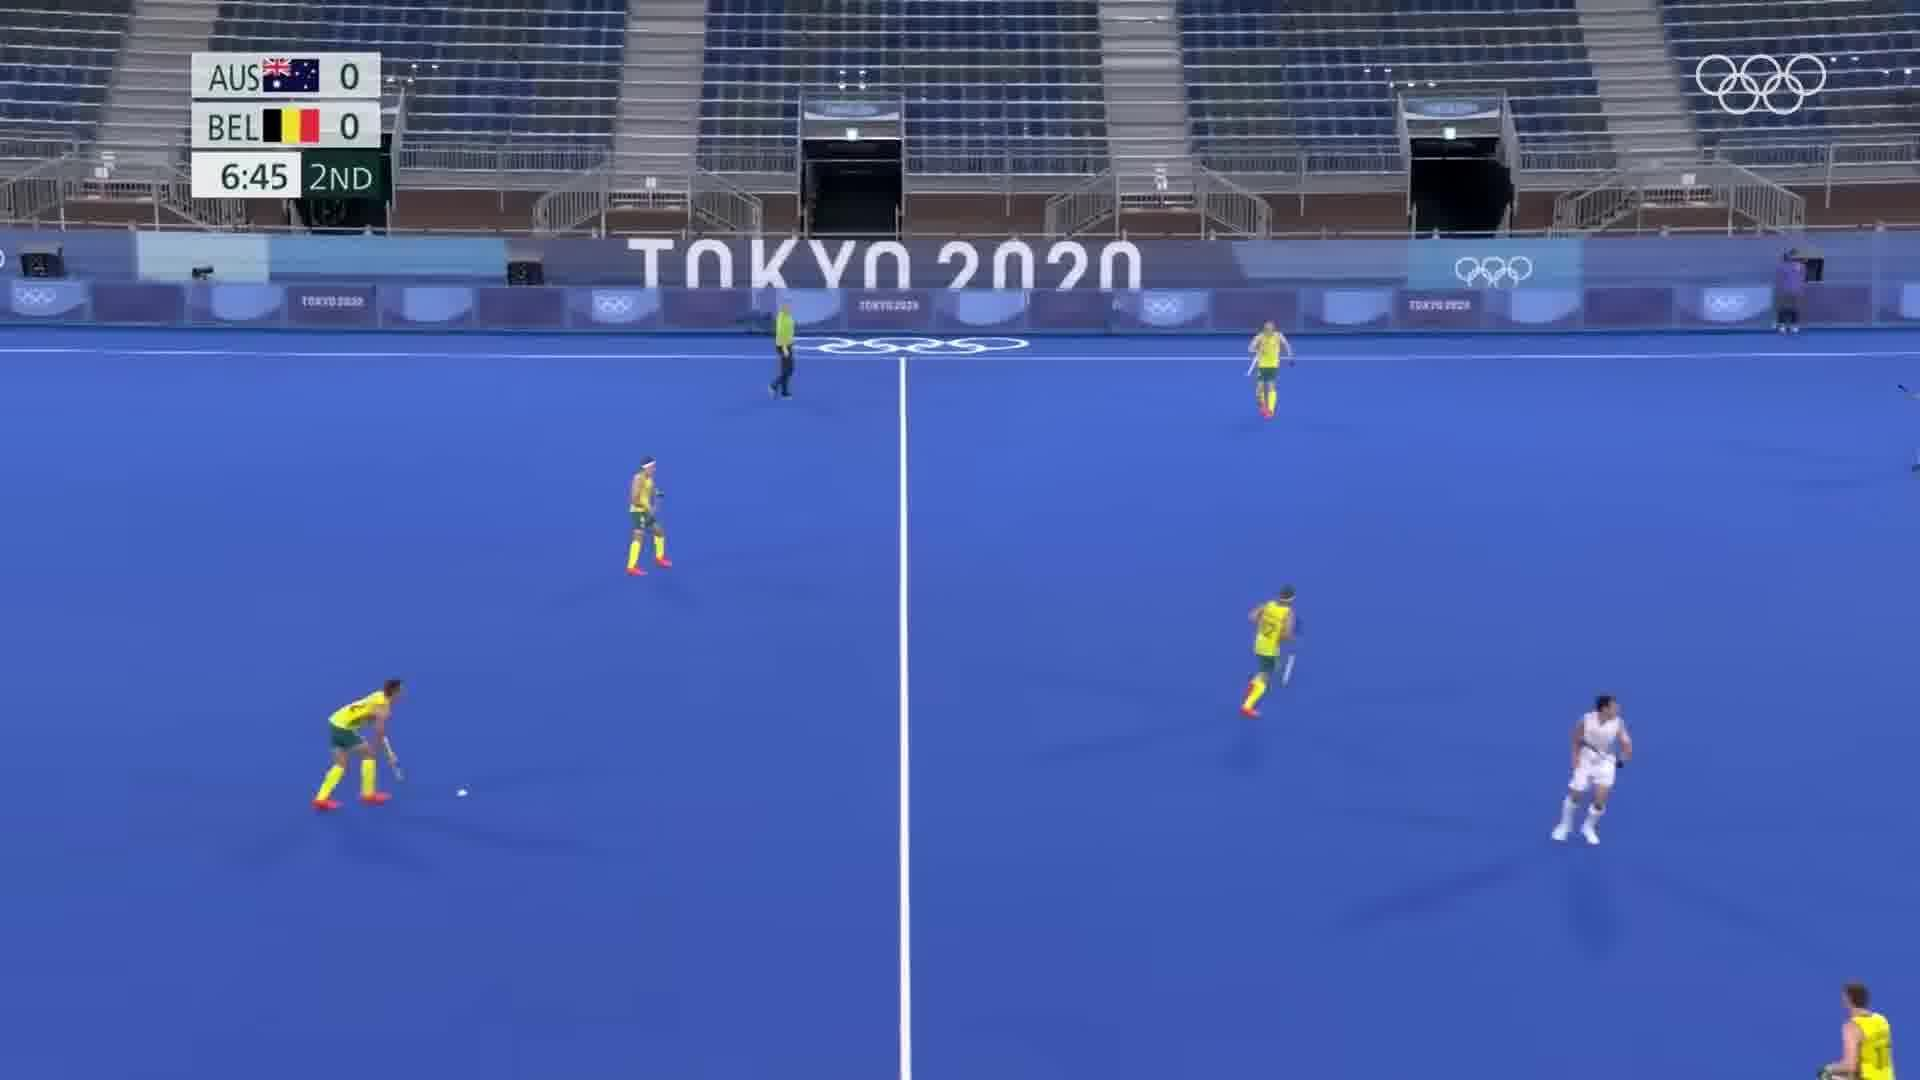ball: (446, 784, 483, 805)
